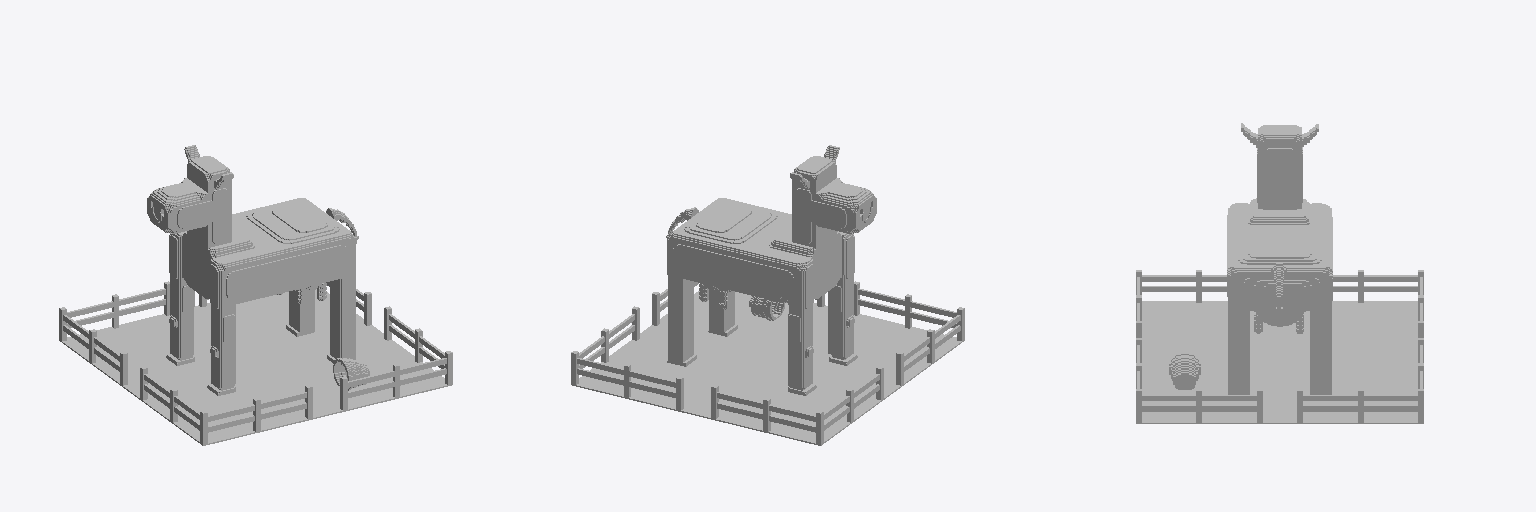
File: krava.obj
3 renders of one model, left to right at view 1: azimuth 30°, elevation 25°; view 2: azimuth 150°, elevation 25°; view 3: azimuth 270°, elevation 25°, orthographic.
Visible parts, largest first — view 1: object 1; view 2: object 1; view 3: object 1.
Part boxes in pixels (x1,y1,x2,y2): object 1: (59, 145, 452, 445); object 1: (571, 145, 964, 445); object 1: (1136, 123, 1423, 423).
Size of the model in its own units: 20 by 16.4 by 20.